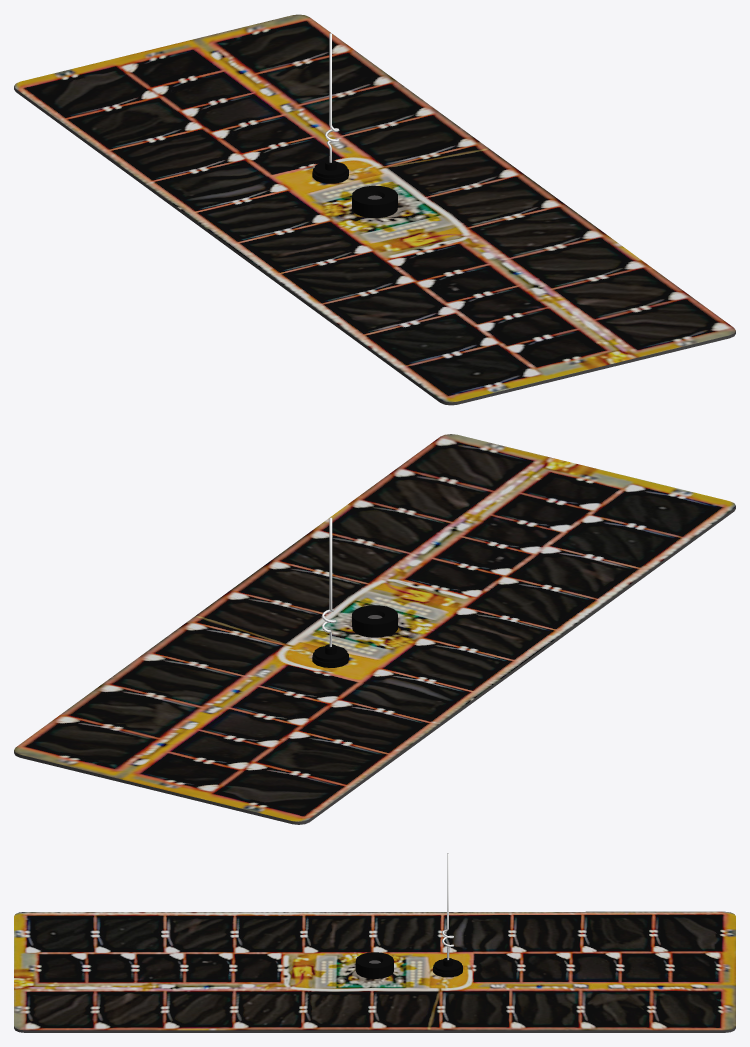
The model's file is solar_panel_one_part.dae.
3 views of the same model, one above another, from view 1: azimuth 30°, elevation 25°; view 2: azimuth 150°, elevation 25°; view 3: azimuth 270°, elevation 25° (orthographic). The views are drawn at different scales.
Parts seen in each view (by area): view 1: solar_panel; view 2: solar_panel; view 3: solar_panel.
Part boxes in pixels (box(x1,y1,x2,y2)): solar_panel: box(14, 14, 735, 405); solar_panel: box(14, 434, 735, 824); solar_panel: box(14, 853, 735, 1032).
Bounding box in the file's own units: 0.165 × 0.425 × 0.0844.
4 materials, 1 textured.
